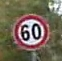limite 60: (11, 13, 51, 50)
